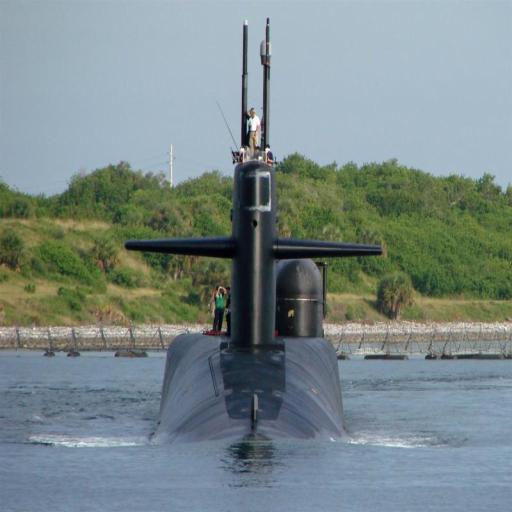submarine: (124, 22, 385, 466)
